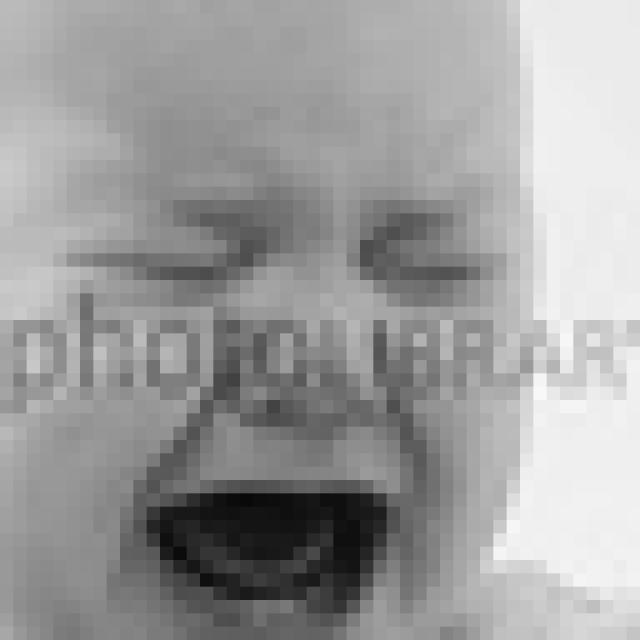sad: (52, 167, 512, 640)
